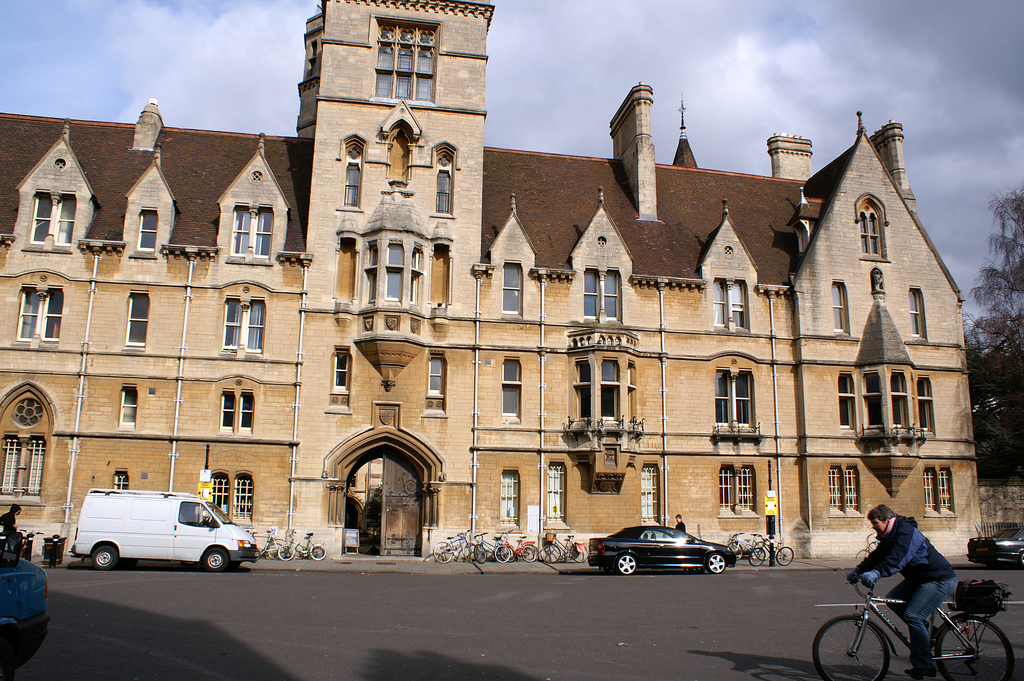Bike_away: (813, 576, 1017, 675)
